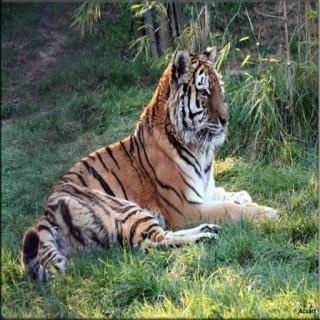Tiger: (23, 33, 285, 279)
